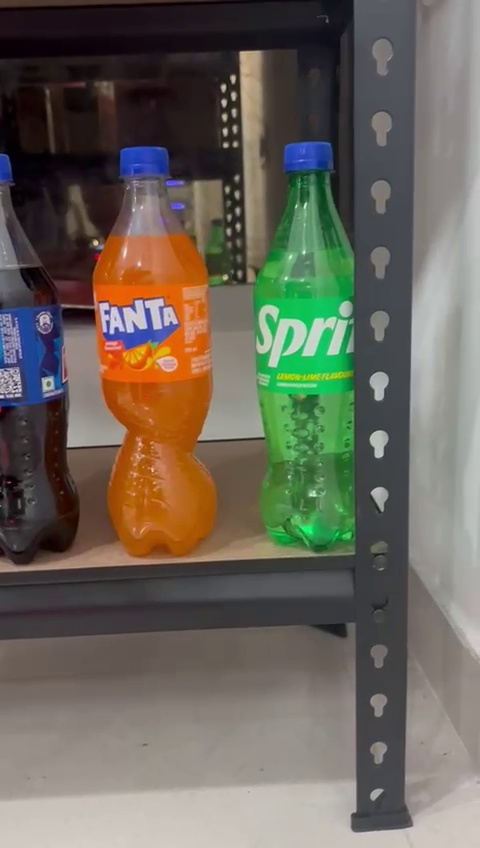Fanta: (91, 144, 225, 565)
Sprit: (250, 138, 370, 554)
